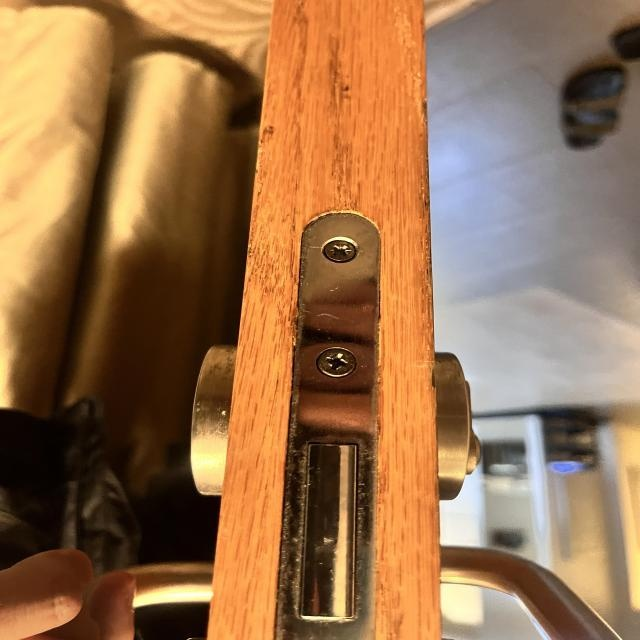phillips: (316, 347, 357, 377)
pozidriv: (323, 240, 357, 262)
